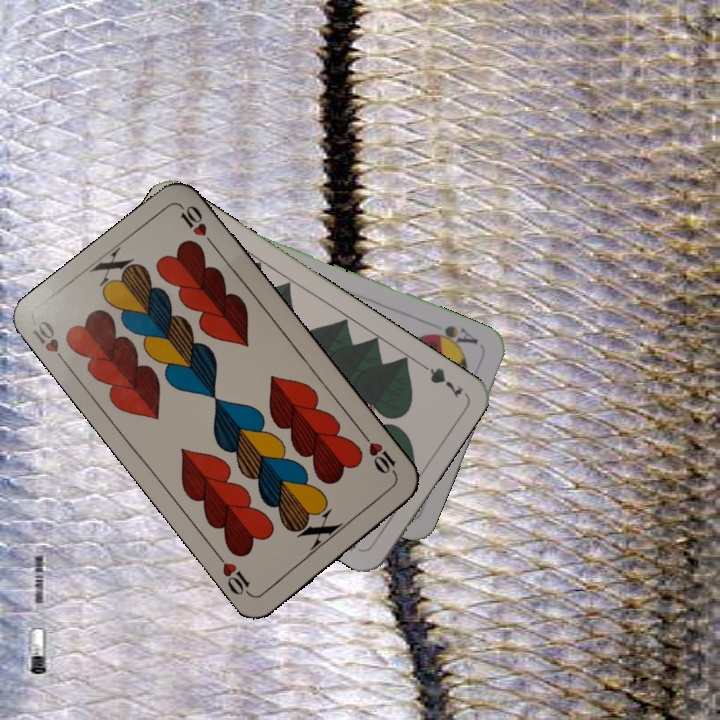G7: (414, 357, 467, 401)
H10: (28, 316, 72, 370), (359, 430, 401, 481)
SA: (423, 321, 481, 352)
